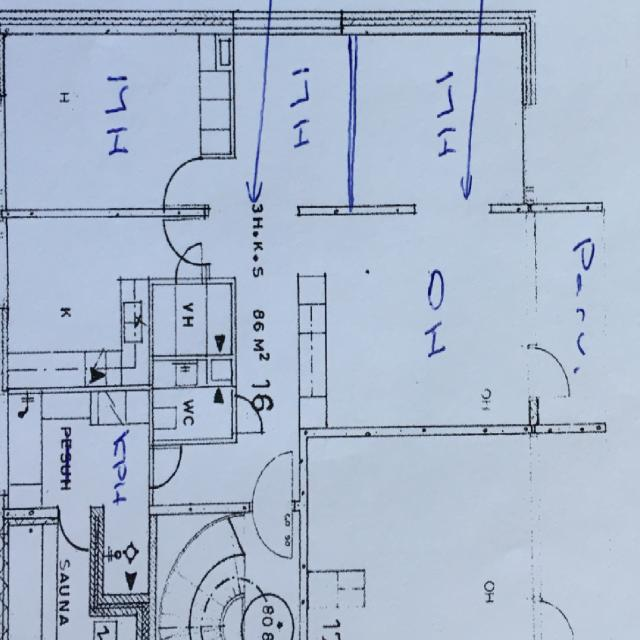door: (254, 453, 294, 516), (254, 506, 294, 568), (526, 348, 572, 396), (256, 159, 290, 212), (170, 214, 210, 259), (222, 159, 255, 212), (171, 157, 209, 201), (59, 507, 88, 564), (149, 447, 184, 487), (177, 245, 202, 283)
